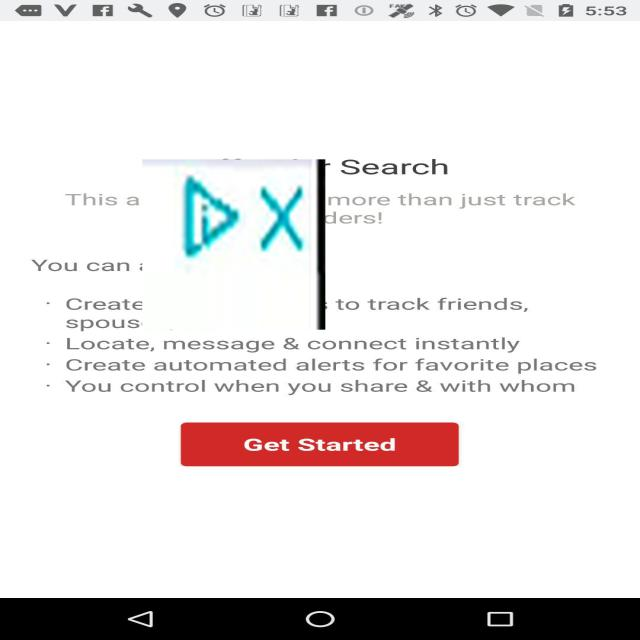sneaking: (142, 159, 326, 330)
